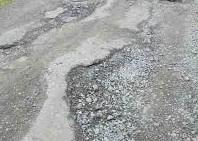pothole: (67, 42, 159, 141), (0, 2, 103, 50)
